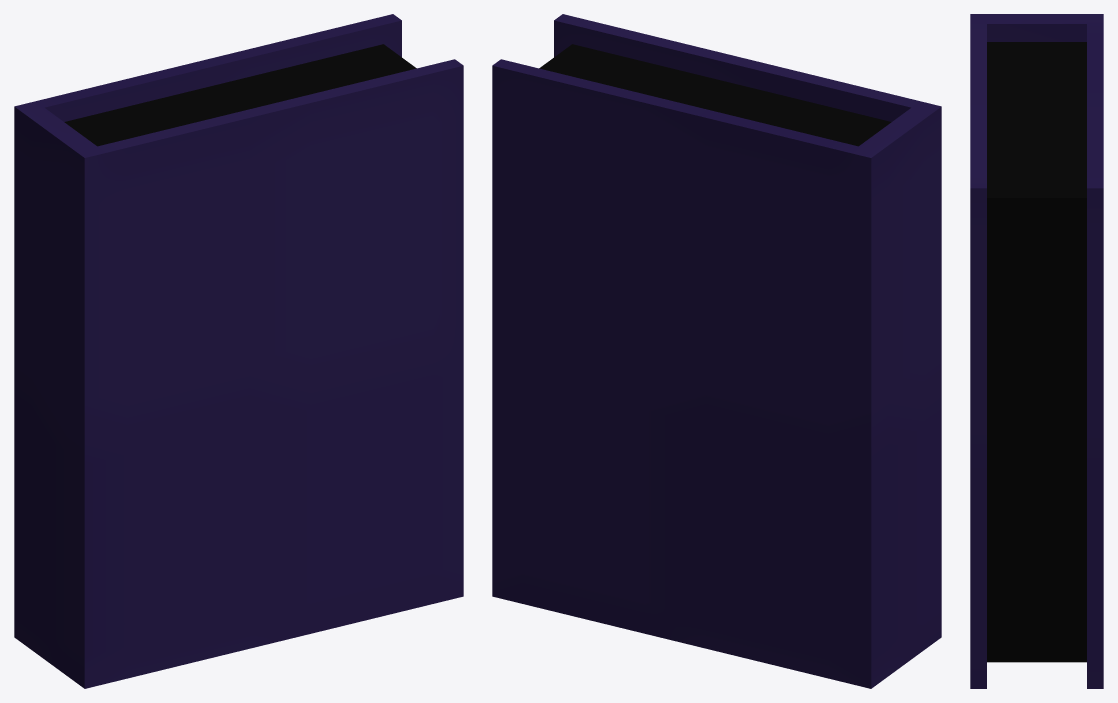
The model's file is journal.obj.
3 views of the same model, side by side, from view 1: azimuth 30°, elevation 25°; view 2: azimuth 150°, elevation 25°; view 3: azimuth 270°, elevation 25° (orthographic). The views are drawn at different scales.
Visible parts, largest first — view 1: bound_pages_and_board_covers; view 2: bound_pages_and_board_covers; view 3: bound_pages_and_board_covers.
Boxes of the visible parts, left/top/right/bottom form: bound_pages_and_board_covers: left=14, top=14, right=463, bottom=688; bound_pages_and_board_covers: left=492, top=14, right=941, bottom=688; bound_pages_and_board_covers: left=970, top=14, right=1103, bottom=688.
Size of the model in its own units: 0.3875 by 0.5188 by 0.125.
